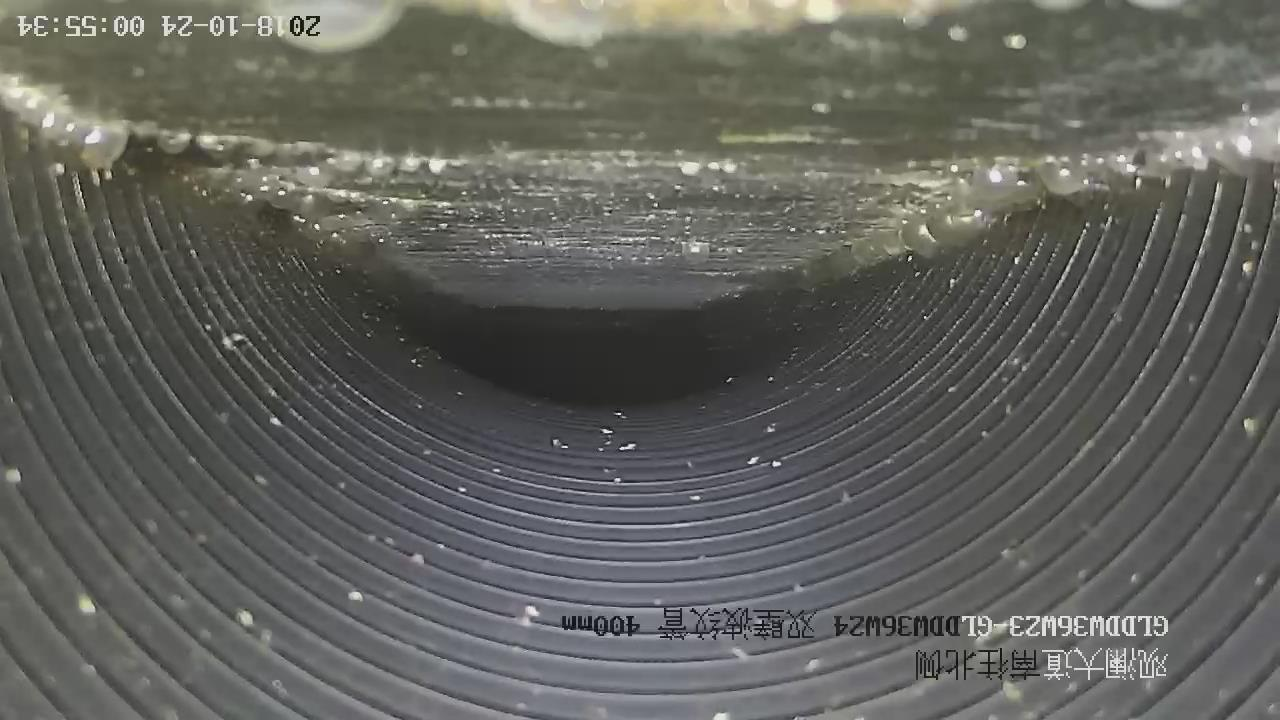FZ: (1, 1, 1280, 307)
